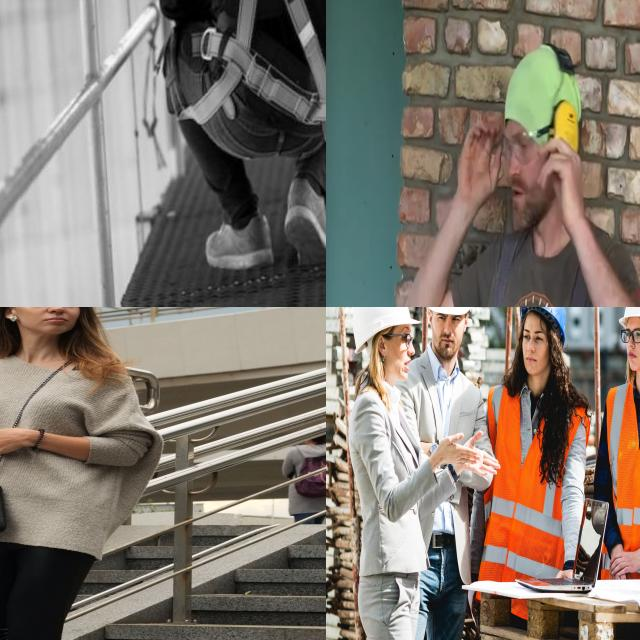Ear-protection: (505, 45, 581, 234)
Harness: (182, 0, 326, 139)
No_Ear-Protection: (373, 333, 390, 358), (462, 311, 470, 334), (427, 308, 435, 329)
No_Glasses: (519, 324, 549, 346), (432, 310, 464, 327)
face_nomask: (375, 321, 410, 387), (516, 312, 551, 373), (429, 311, 469, 360), (621, 314, 640, 368)
glasses: (619, 327, 640, 347), (399, 329, 415, 348)
hand_noglove: (464, 423, 504, 491), (431, 429, 481, 478), (617, 540, 640, 581)
head_helmet: (352, 307, 421, 353), (520, 307, 567, 343), (618, 307, 640, 346)
person: (487, 307, 583, 590), (412, 307, 491, 640), (342, 307, 420, 640), (592, 307, 640, 580)
vest: (484, 380, 570, 578), (613, 376, 640, 581)
